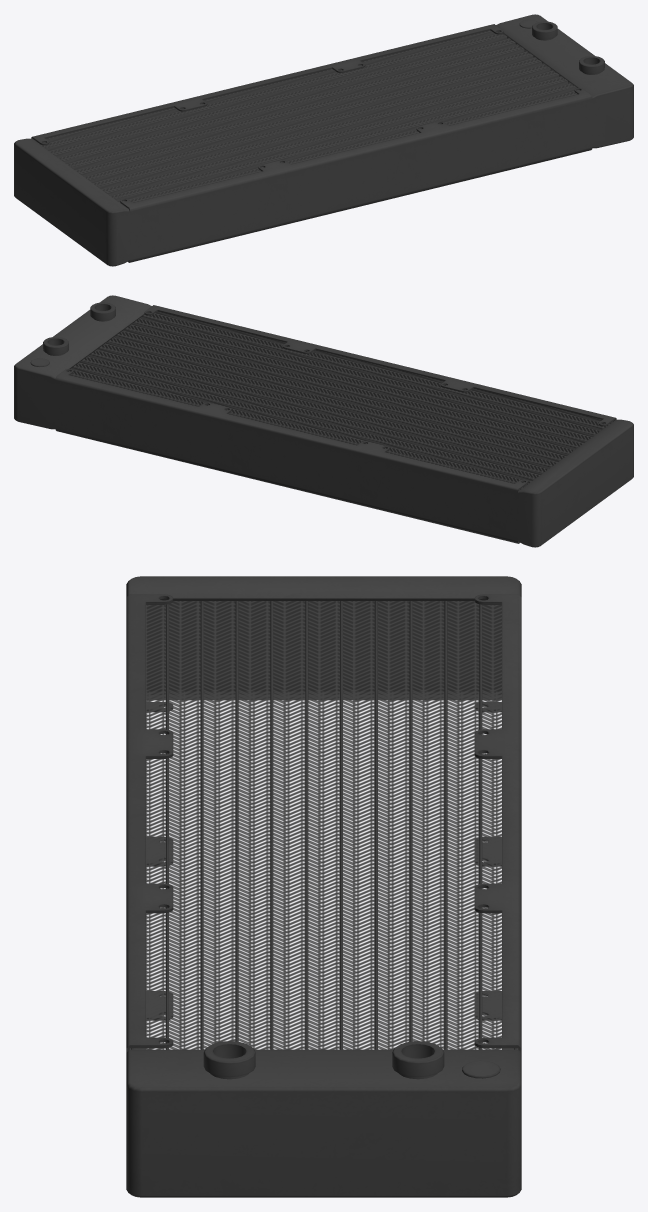
The model's file is 1784301078455_RADIATOR.glb.
3 renders of one model, top to bottom at view 1: azimuth 30°, elevation 25°; view 2: azimuth 150°, elevation 25°; view 3: azimuth 270°, elevation 25°, orthographic. The views are drawn at different scales.
Visible parts, largest first — view 1: RADIATOR; view 2: RADIATOR; view 3: RADIATOR.
Boxes of the visible parts, x1,y1,x2,y2 form: RADIATOR: (14, 14, 633, 266); RADIATOR: (14, 295, 633, 547); RADIATOR: (126, 576, 521, 1197).
Size of the model in its own units: 0.4 by 0.0469 by 0.13.
Materials: 1 (1 with a texture image).
